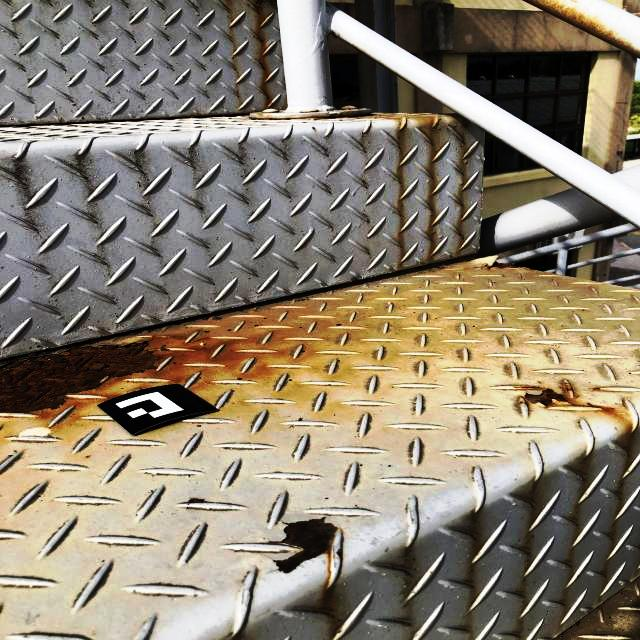Corrosion: (0, 337, 173, 413), (522, 0, 640, 59), (261, 518, 342, 590), (514, 387, 615, 414), (484, 261, 521, 270), (337, 530, 344, 575), (564, 379, 574, 398), (590, 387, 601, 390), (352, 277, 359, 281)
